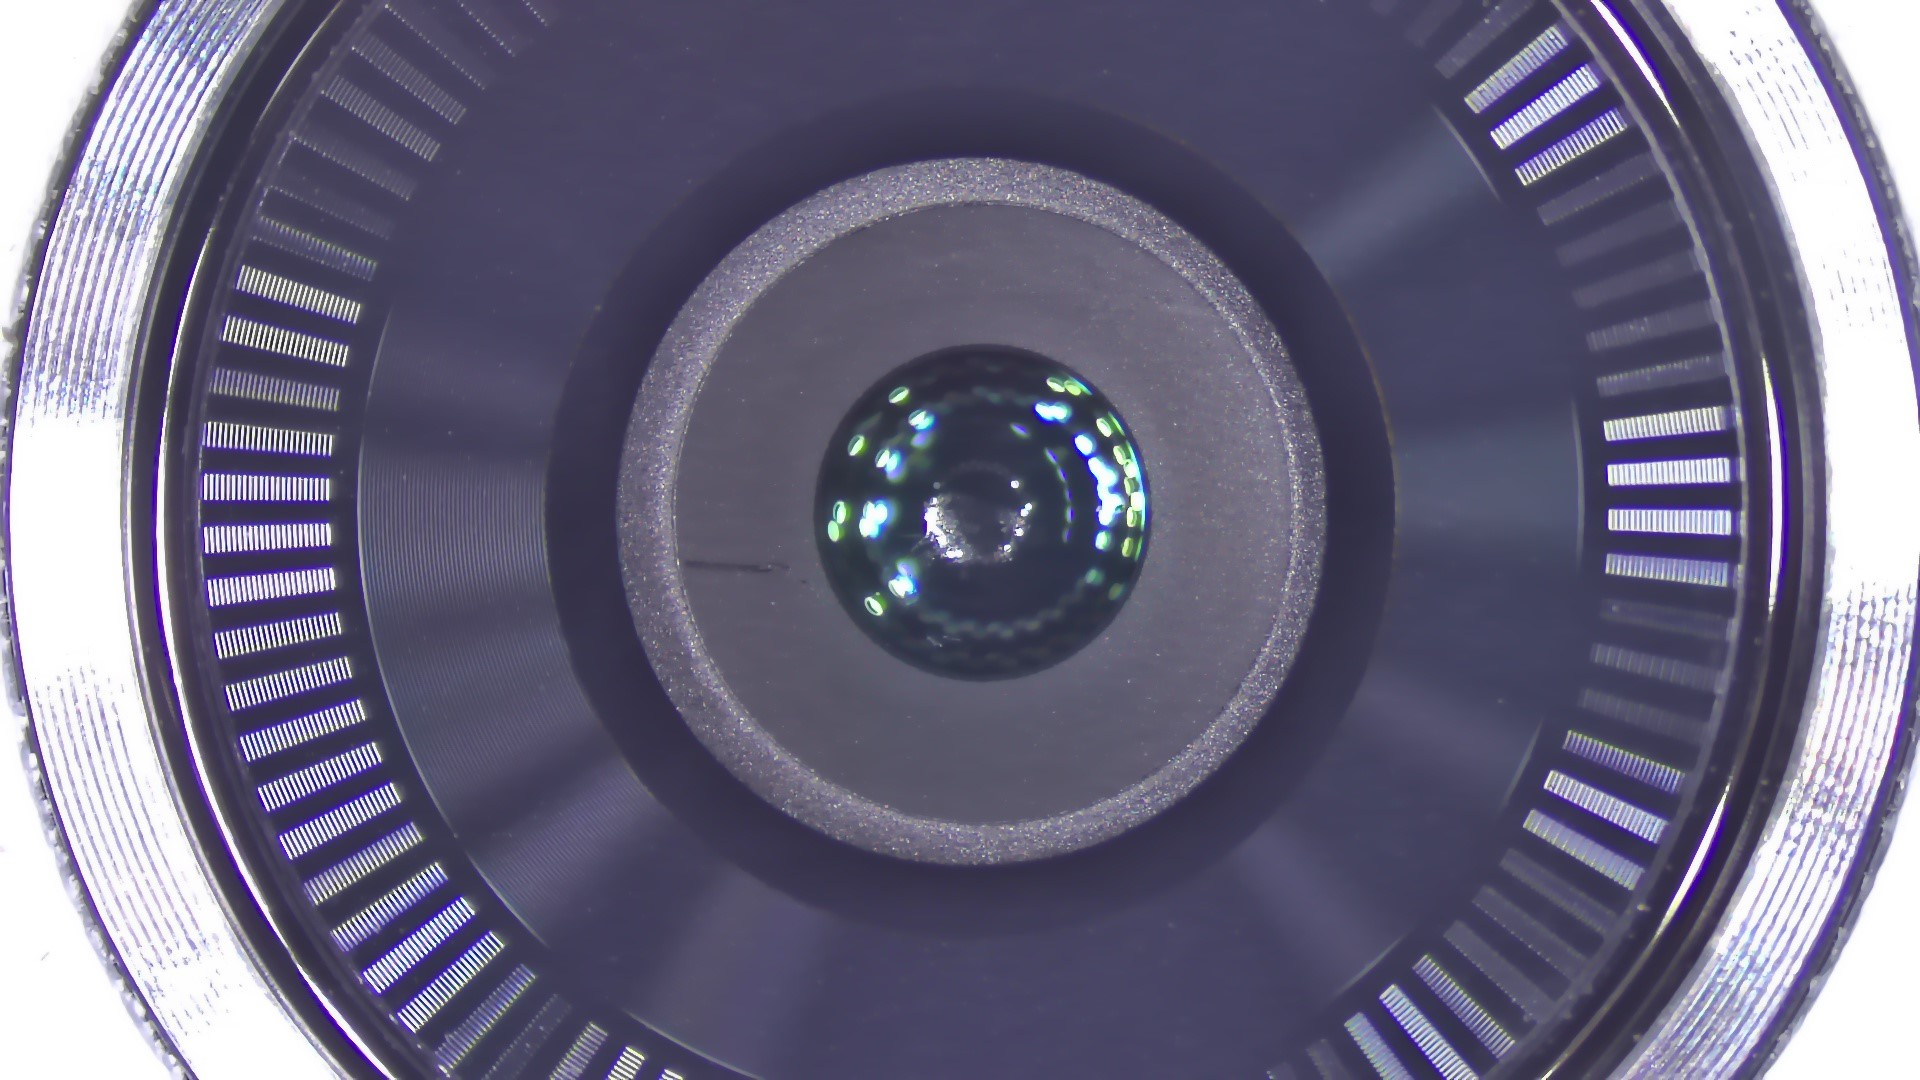crack: (669, 550, 827, 605)
